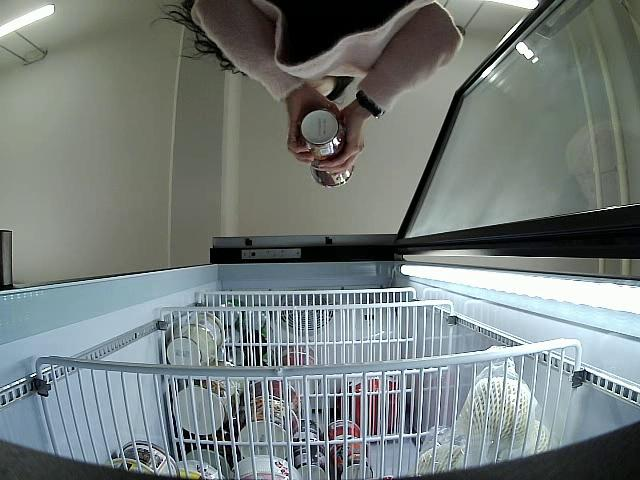00_hand: (287, 87, 341, 161), (313, 103, 365, 176)
06_nuguri_S: (300, 110, 345, 159), (313, 161, 355, 187)
